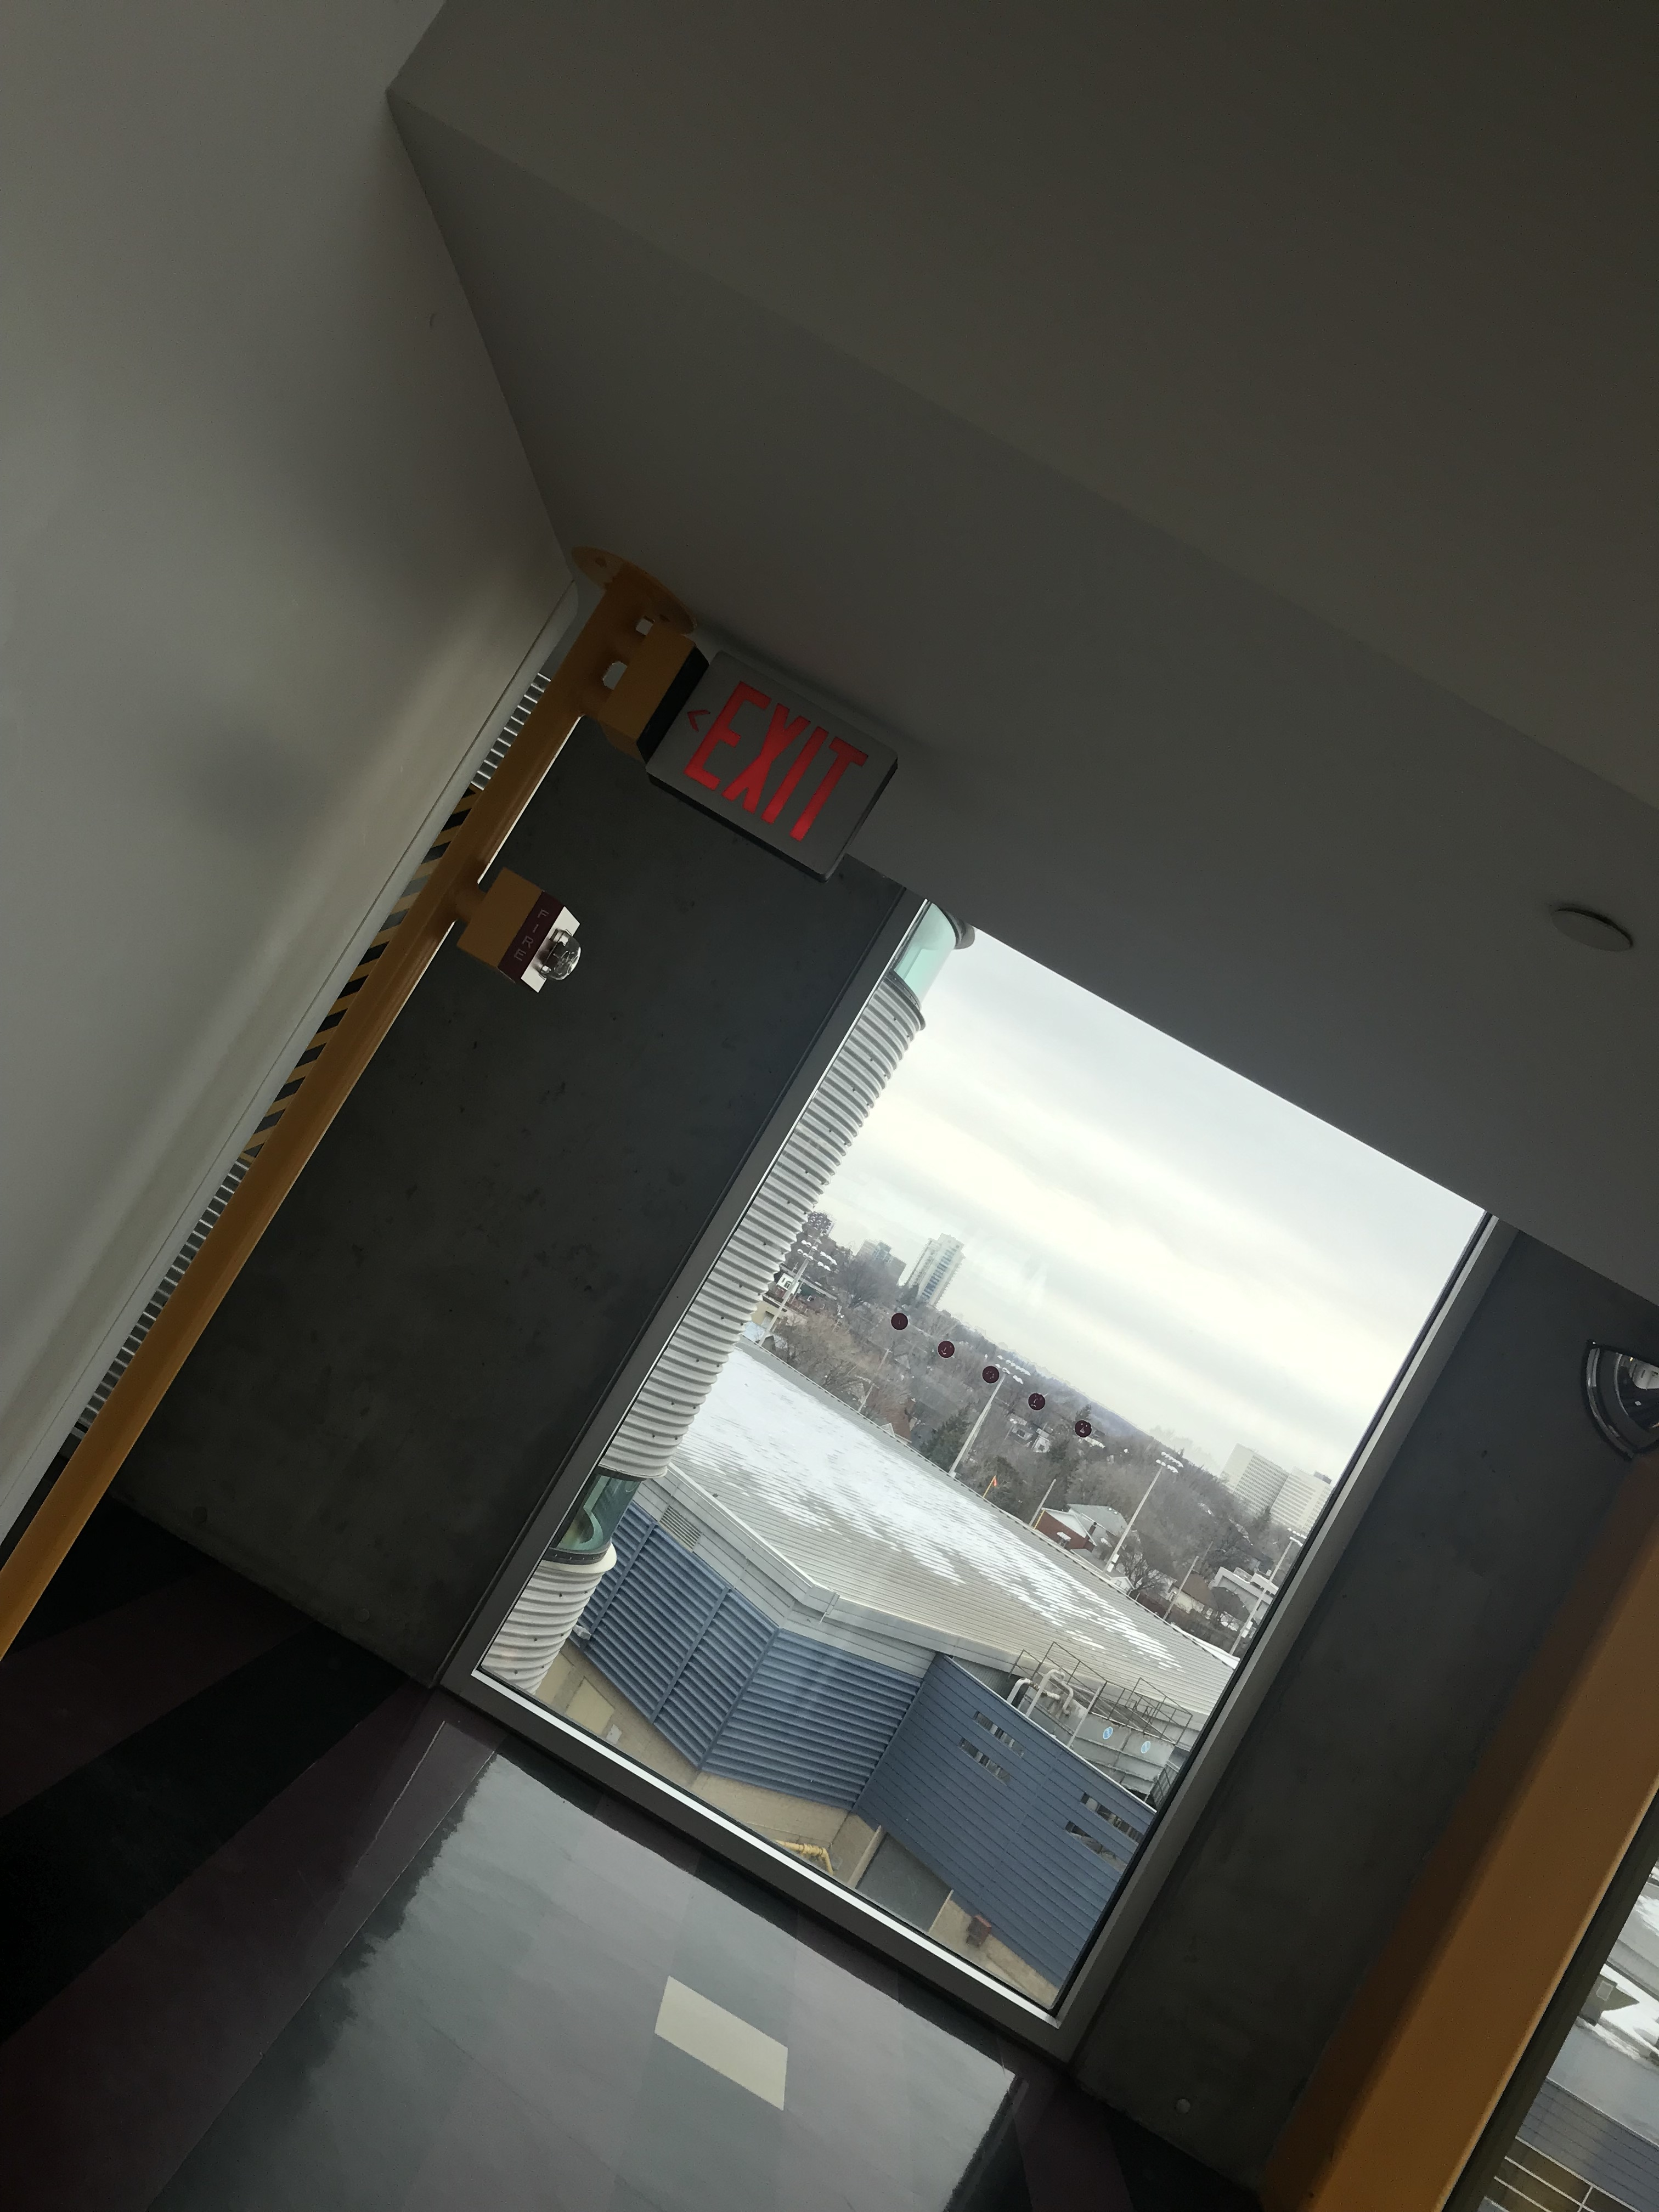sign: (645, 648, 894, 881)
